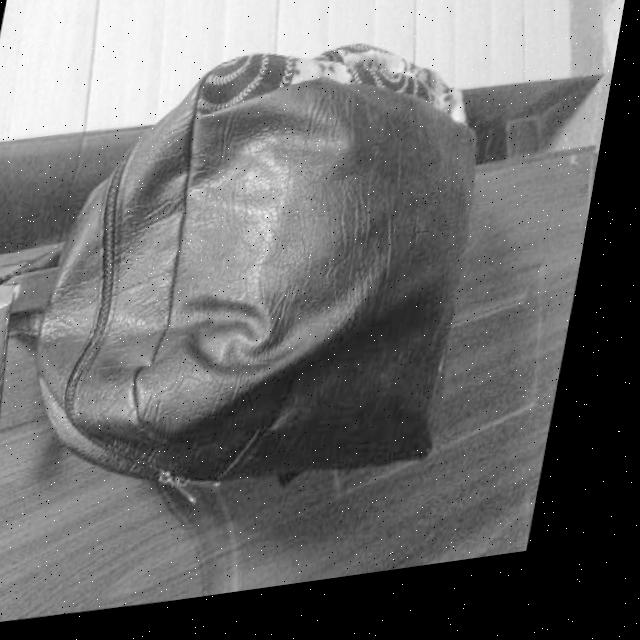canta: (0, 29, 517, 537)
